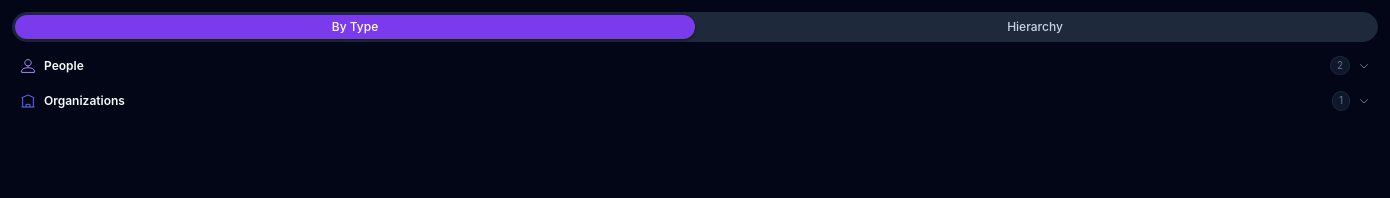
Scenario: By Type: click section header expands it
Step 1. Click the text "People" → (64, 65), box [44,58,84,73]
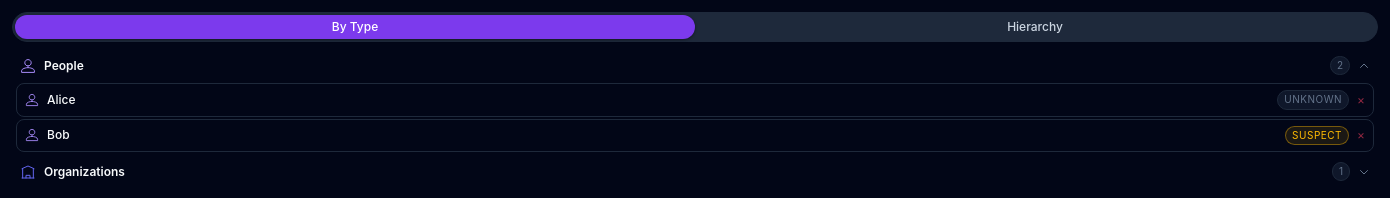
expect the button "Alice" is shown: met, box [47,92,1269,108]
expect the button "Bob" is shown: met, box [47,127,1277,143]
